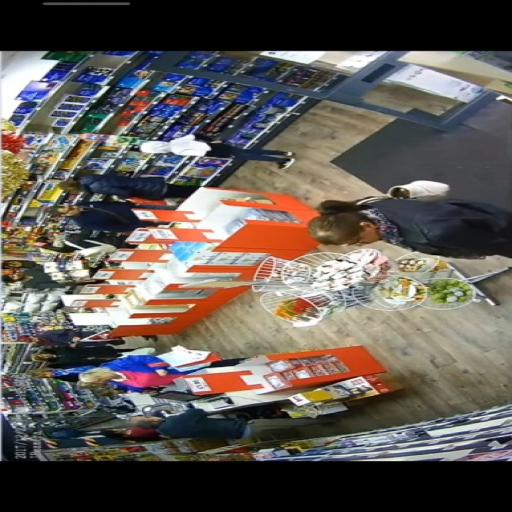workers: (34, 350, 172, 381), (57, 170, 170, 202), (77, 367, 172, 395), (53, 205, 147, 233)
